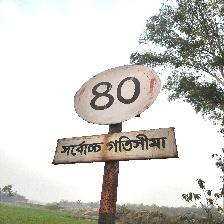Speed-limit: (53, 62, 176, 164)
